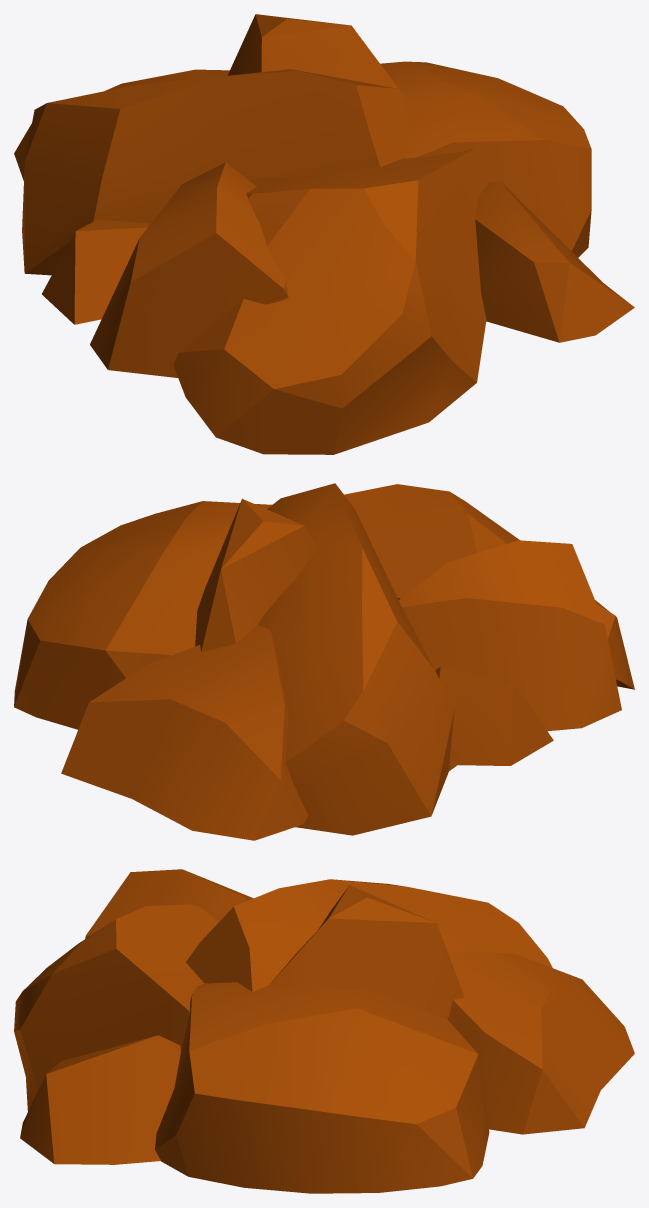
The model's file is RockMount_2.FBX.
The picture shows the model from 3 angles, top to bottom: view 1: azimuth 30°, elevation 25°; view 2: azimuth 150°, elevation 25°; view 3: azimuth 270°, elevation 25°; orthographic projection. The views are drawn at different scales.
Visible parts, largest first — view 1: rocksmount_1; view 2: rocksmount_1; view 3: rocksmount_1.
Part boxes in pixels (bbox=[...]): rocksmount_1: bbox=[14, 14, 634, 454]; rocksmount_1: bbox=[14, 483, 634, 840]; rocksmount_1: bbox=[14, 869, 634, 1193].
Bounding box in the file's own units: 5867 × 2840 × 6616.
